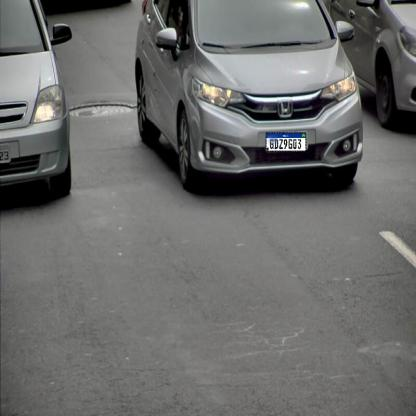PlacaM: (266, 132, 306, 152)
